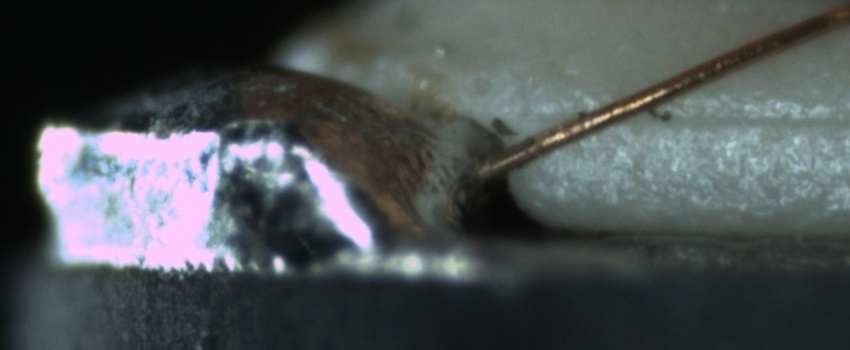DL: (611, 84, 848, 153)
